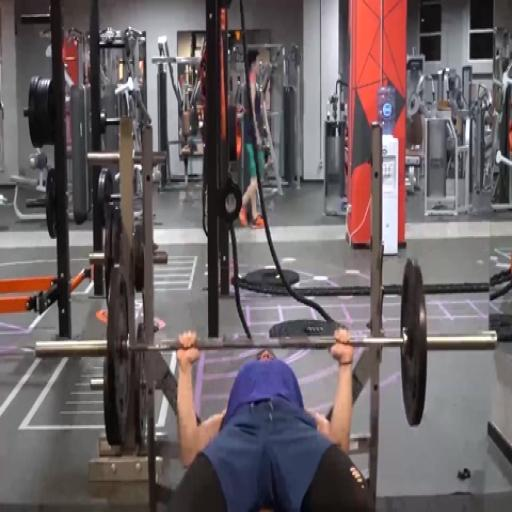exercise: (166, 324, 376, 511)
